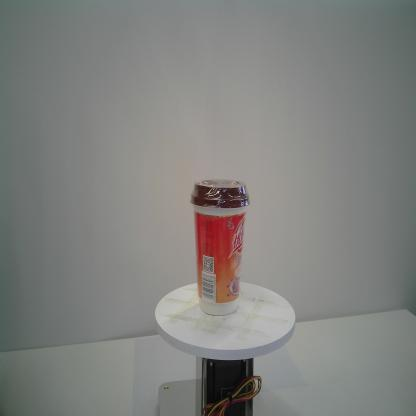Instant Drink: (189, 176, 250, 316)
